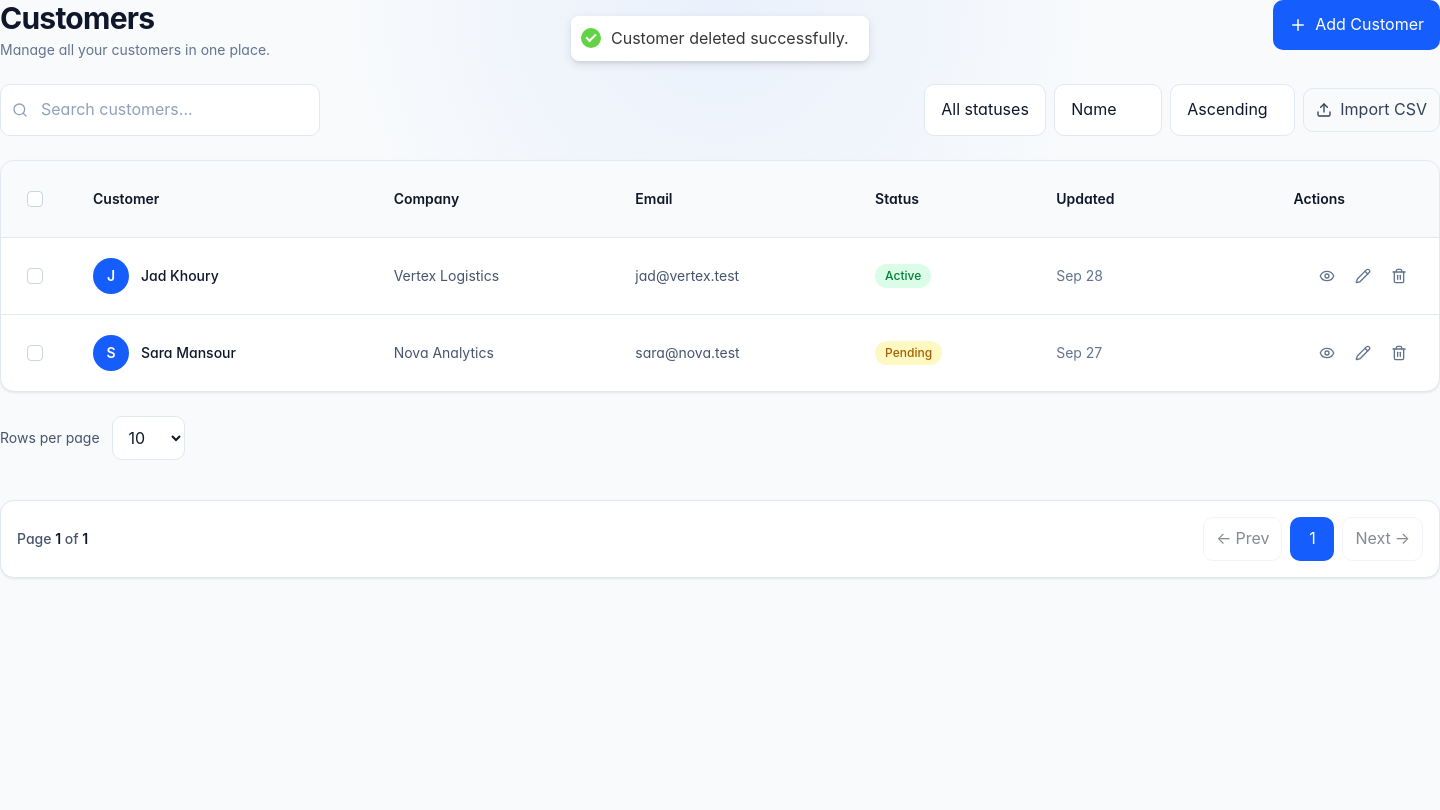
Customers — delete › leaves the record alone when the confirmation is cancelled
The width and height of the screenshot is (1440, 810).
Click the button named "delete jad khoury" at (1399, 276), box [1383, 260, 1415, 292]
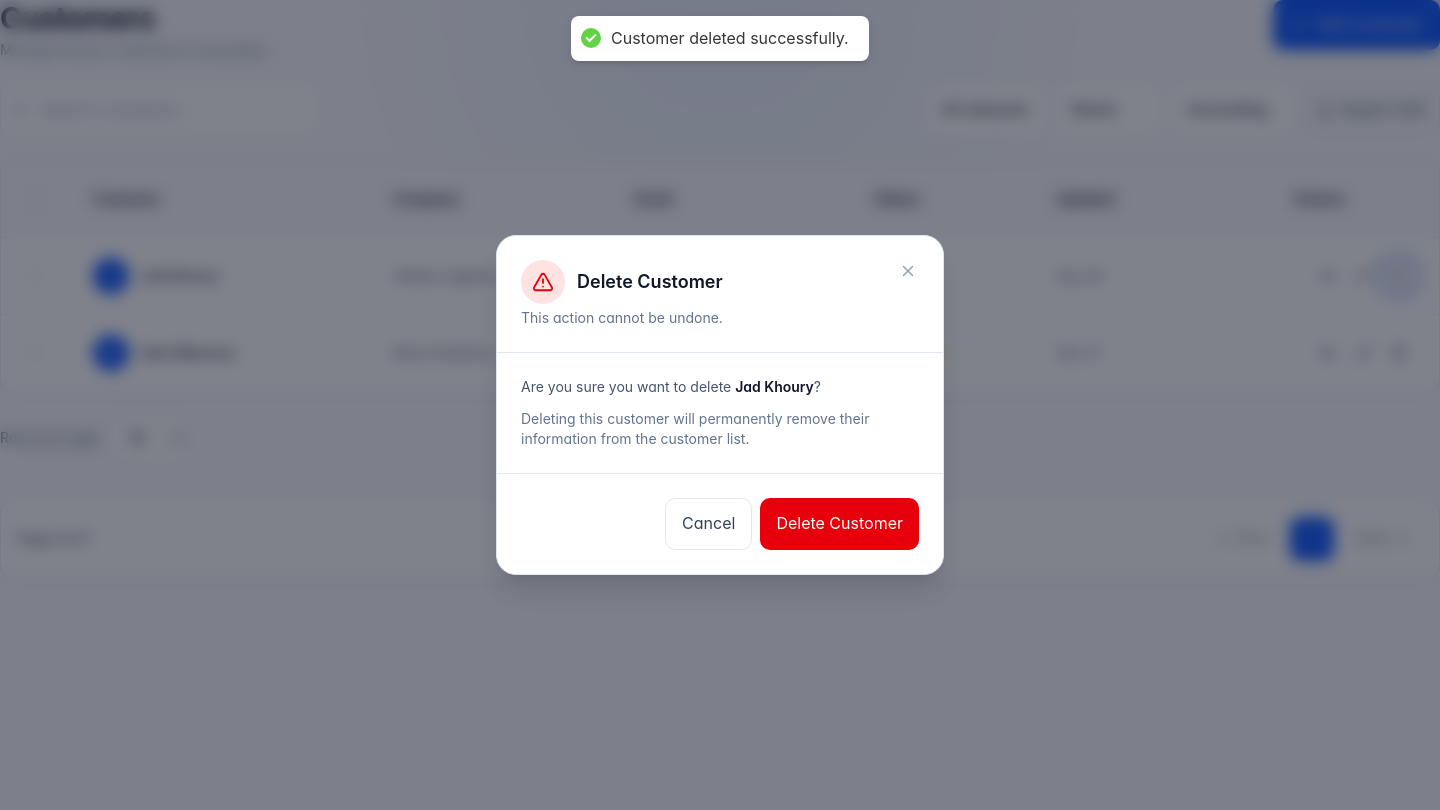
Click the button "Cancel" at (709, 524), box [665, 498, 752, 550]
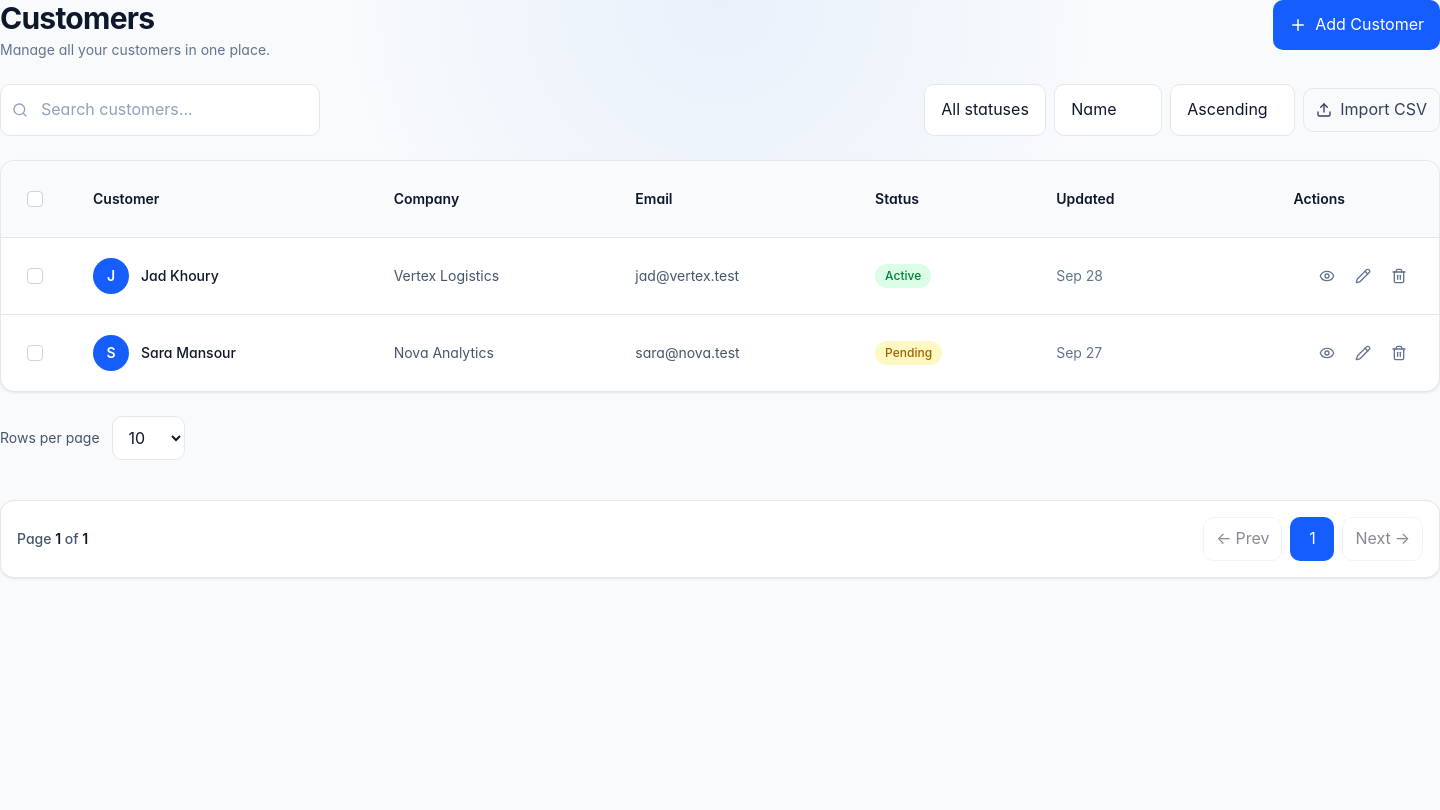
Expected: the dialog is gone
